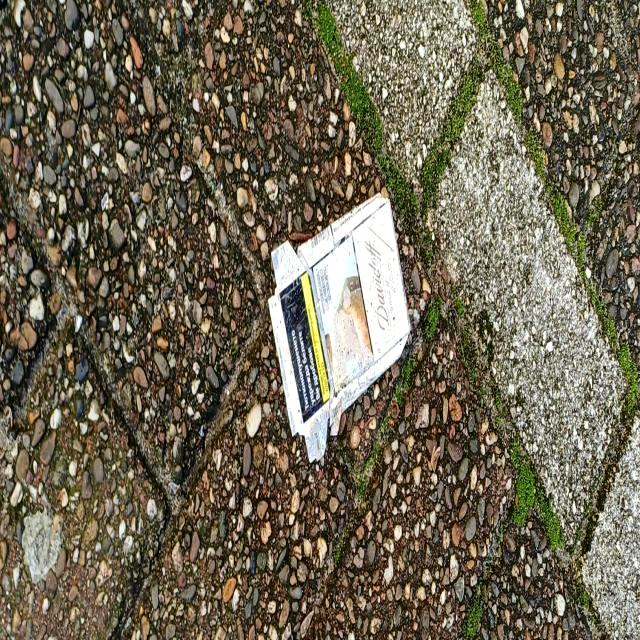Paper: (266, 183, 410, 467)
